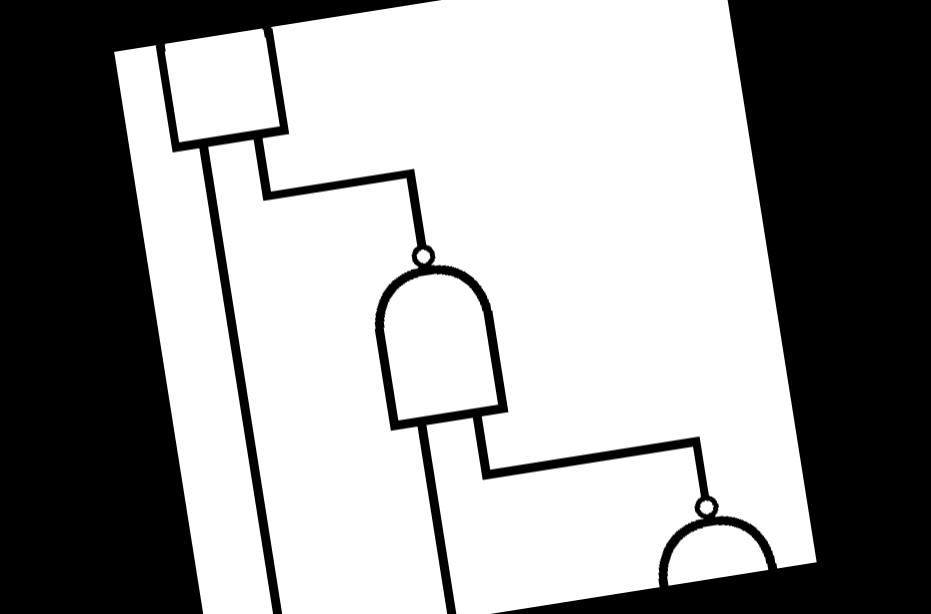nand: (344, 225, 525, 452), (144, 24, 303, 168), (635, 472, 786, 589)
